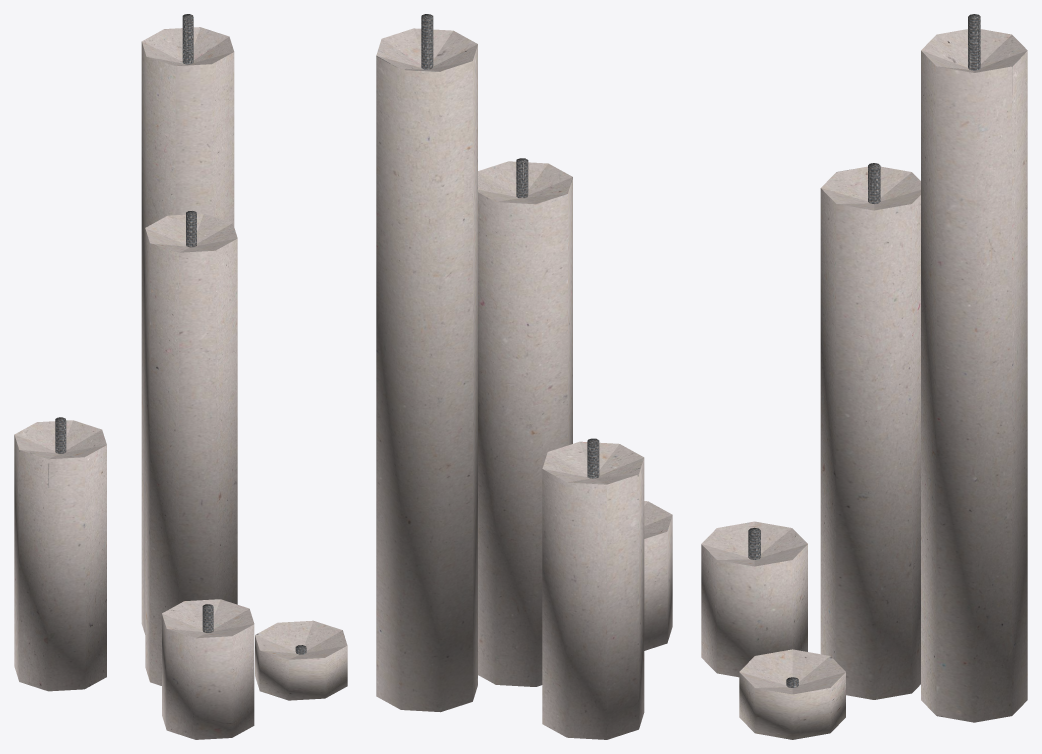
The model's file is Candle2.fbx.
3 views of the same model, side by side, from view 1: azimuth 30°, elevation 25°; view 2: azimuth 150°, elevation 25°; view 3: azimuth 270°, elevation 25° (orthographic). The views are drawn at different scales.
Visible parts, largest first — view 1: Candle.001_Baked; view 2: Candle.001_Baked; view 3: Candle.001_Baked.
Boxes of the visible parts, x1,y1,x2,y2 form: Candle.001_Baked: (14, 14, 347, 739); Candle.001_Baked: (376, 14, 672, 739); Candle.001_Baked: (701, 14, 1027, 739).
Size of the model in its own units: 7.42 by 17.12 by 7.41.
1 material, 1 textured.
